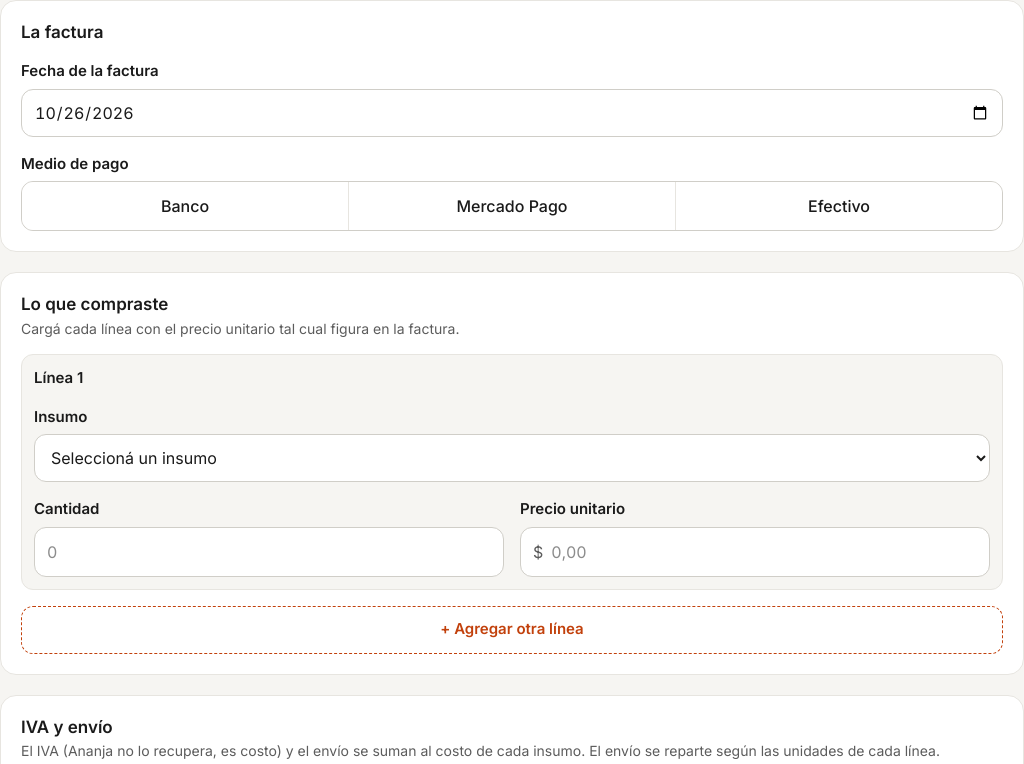
Cargar una compra de insumos › en celular cada línea es una tarjeta apilada, sin tabla
Click the button "+ Agregar otra línea" at (512, 630), box [21,606,1003,654]
(page scrolled)
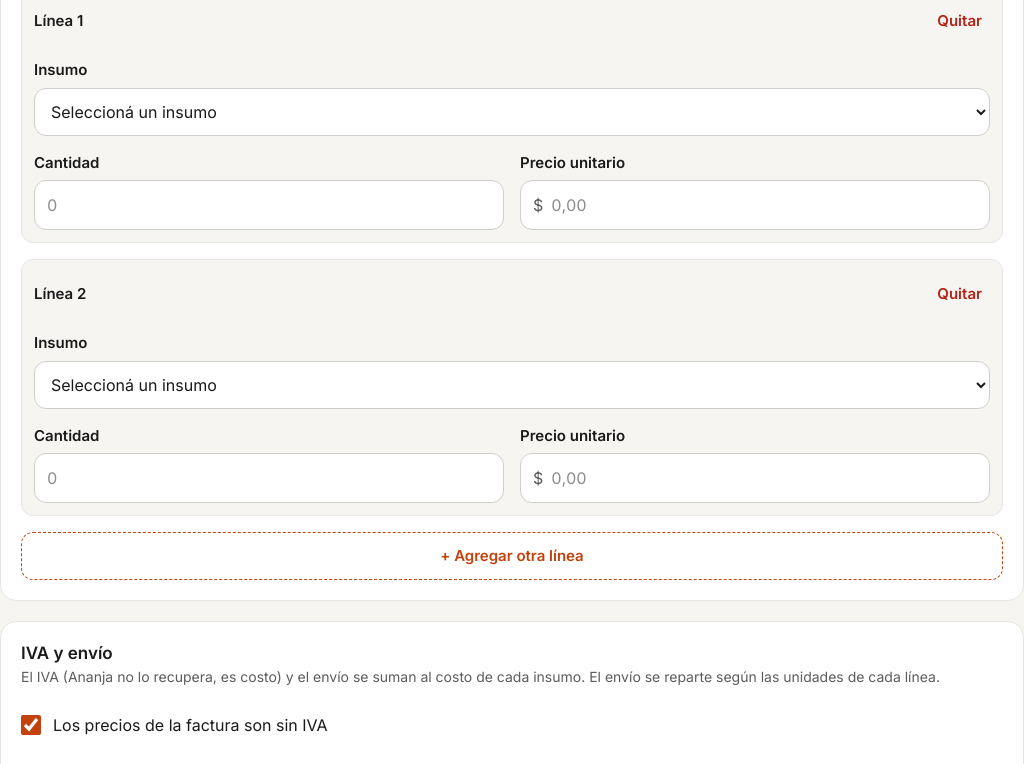
Check: the 2nd dropdown labelled "Insumo" is shown, box [34,360,990,408]
